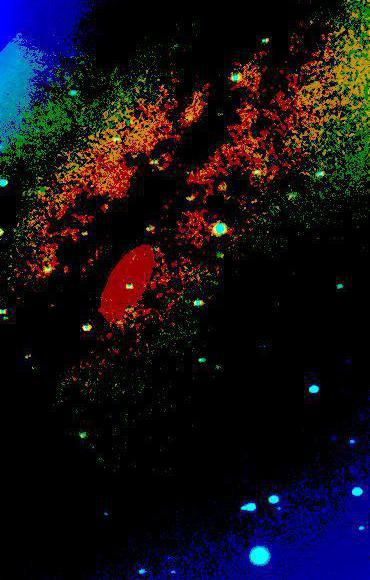star: (262, 293, 292, 323)
